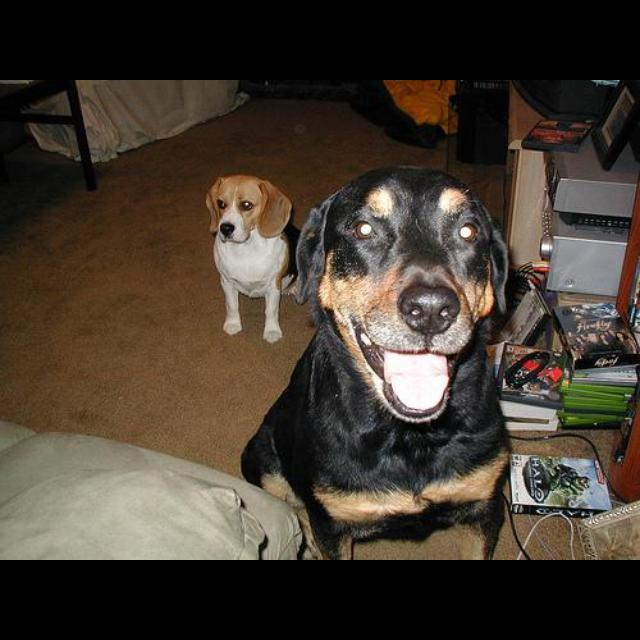other_dog_breed: (205, 177, 305, 347)
rottweiler: (241, 165, 530, 560)
